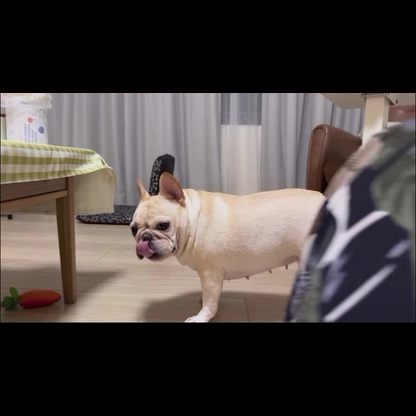bulldog: (128, 165, 332, 321)
